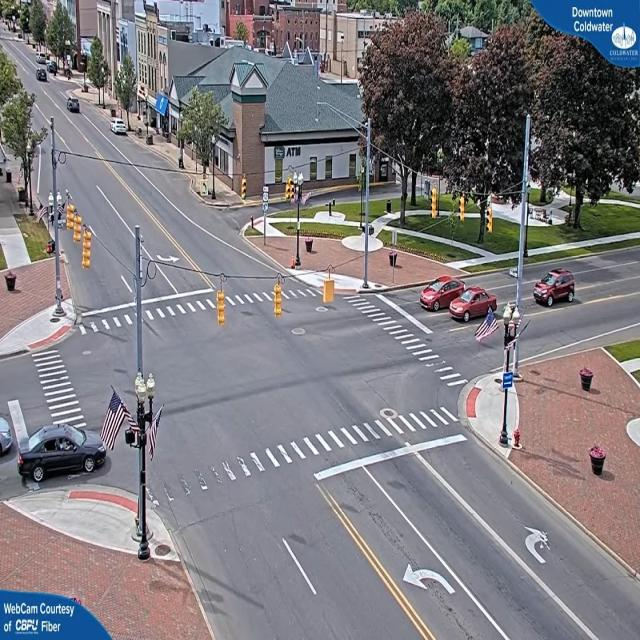car: (25, 422, 109, 480), (450, 286, 496, 324), (534, 268, 577, 306), (422, 274, 461, 307), (1, 408, 18, 460), (112, 119, 130, 136), (38, 68, 52, 82), (67, 97, 80, 112)
